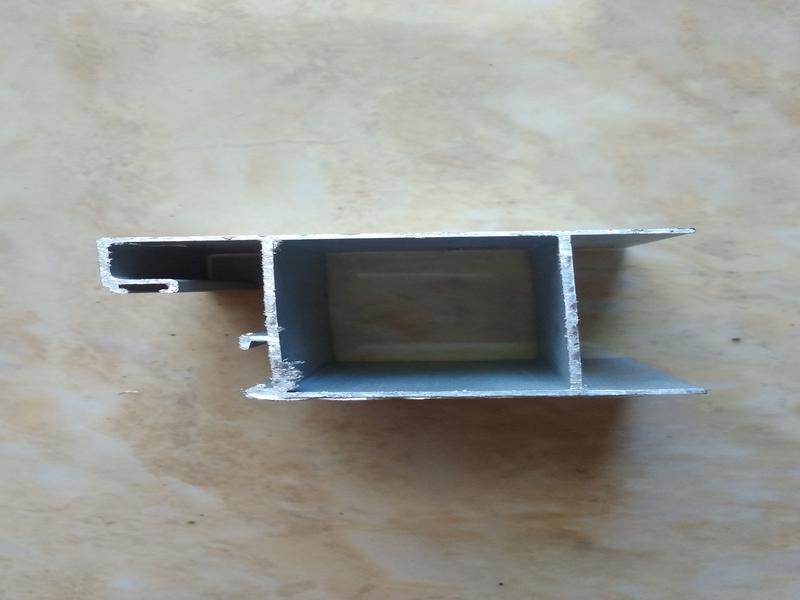Aluminium_2: (57, 187, 750, 431)
